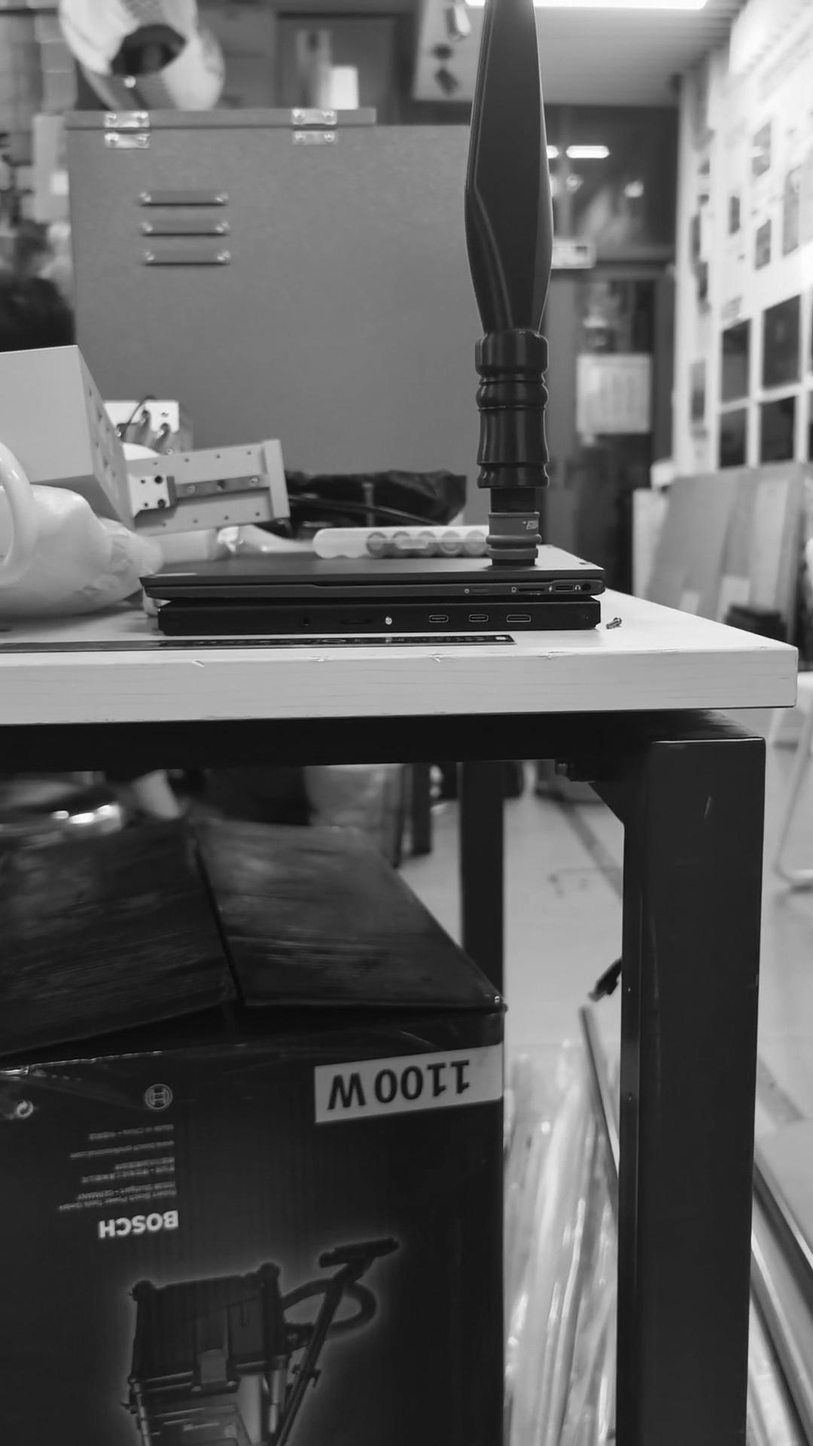base: (484, 500, 547, 583)
